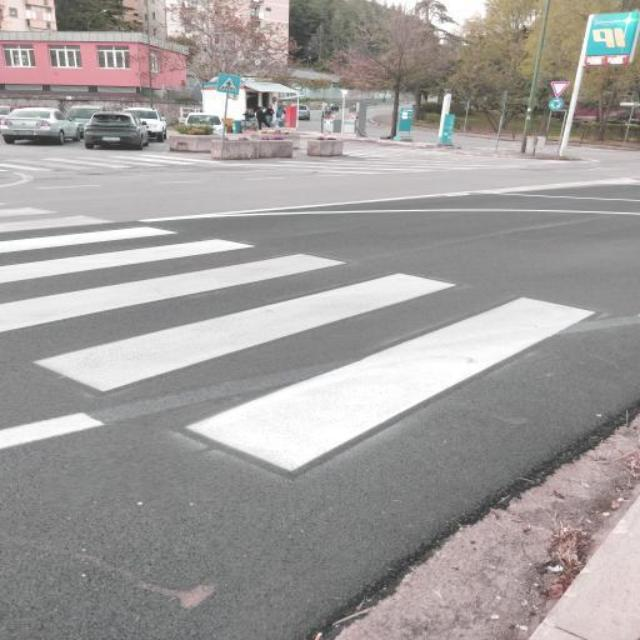sidewalk: (0, 214, 634, 564)
